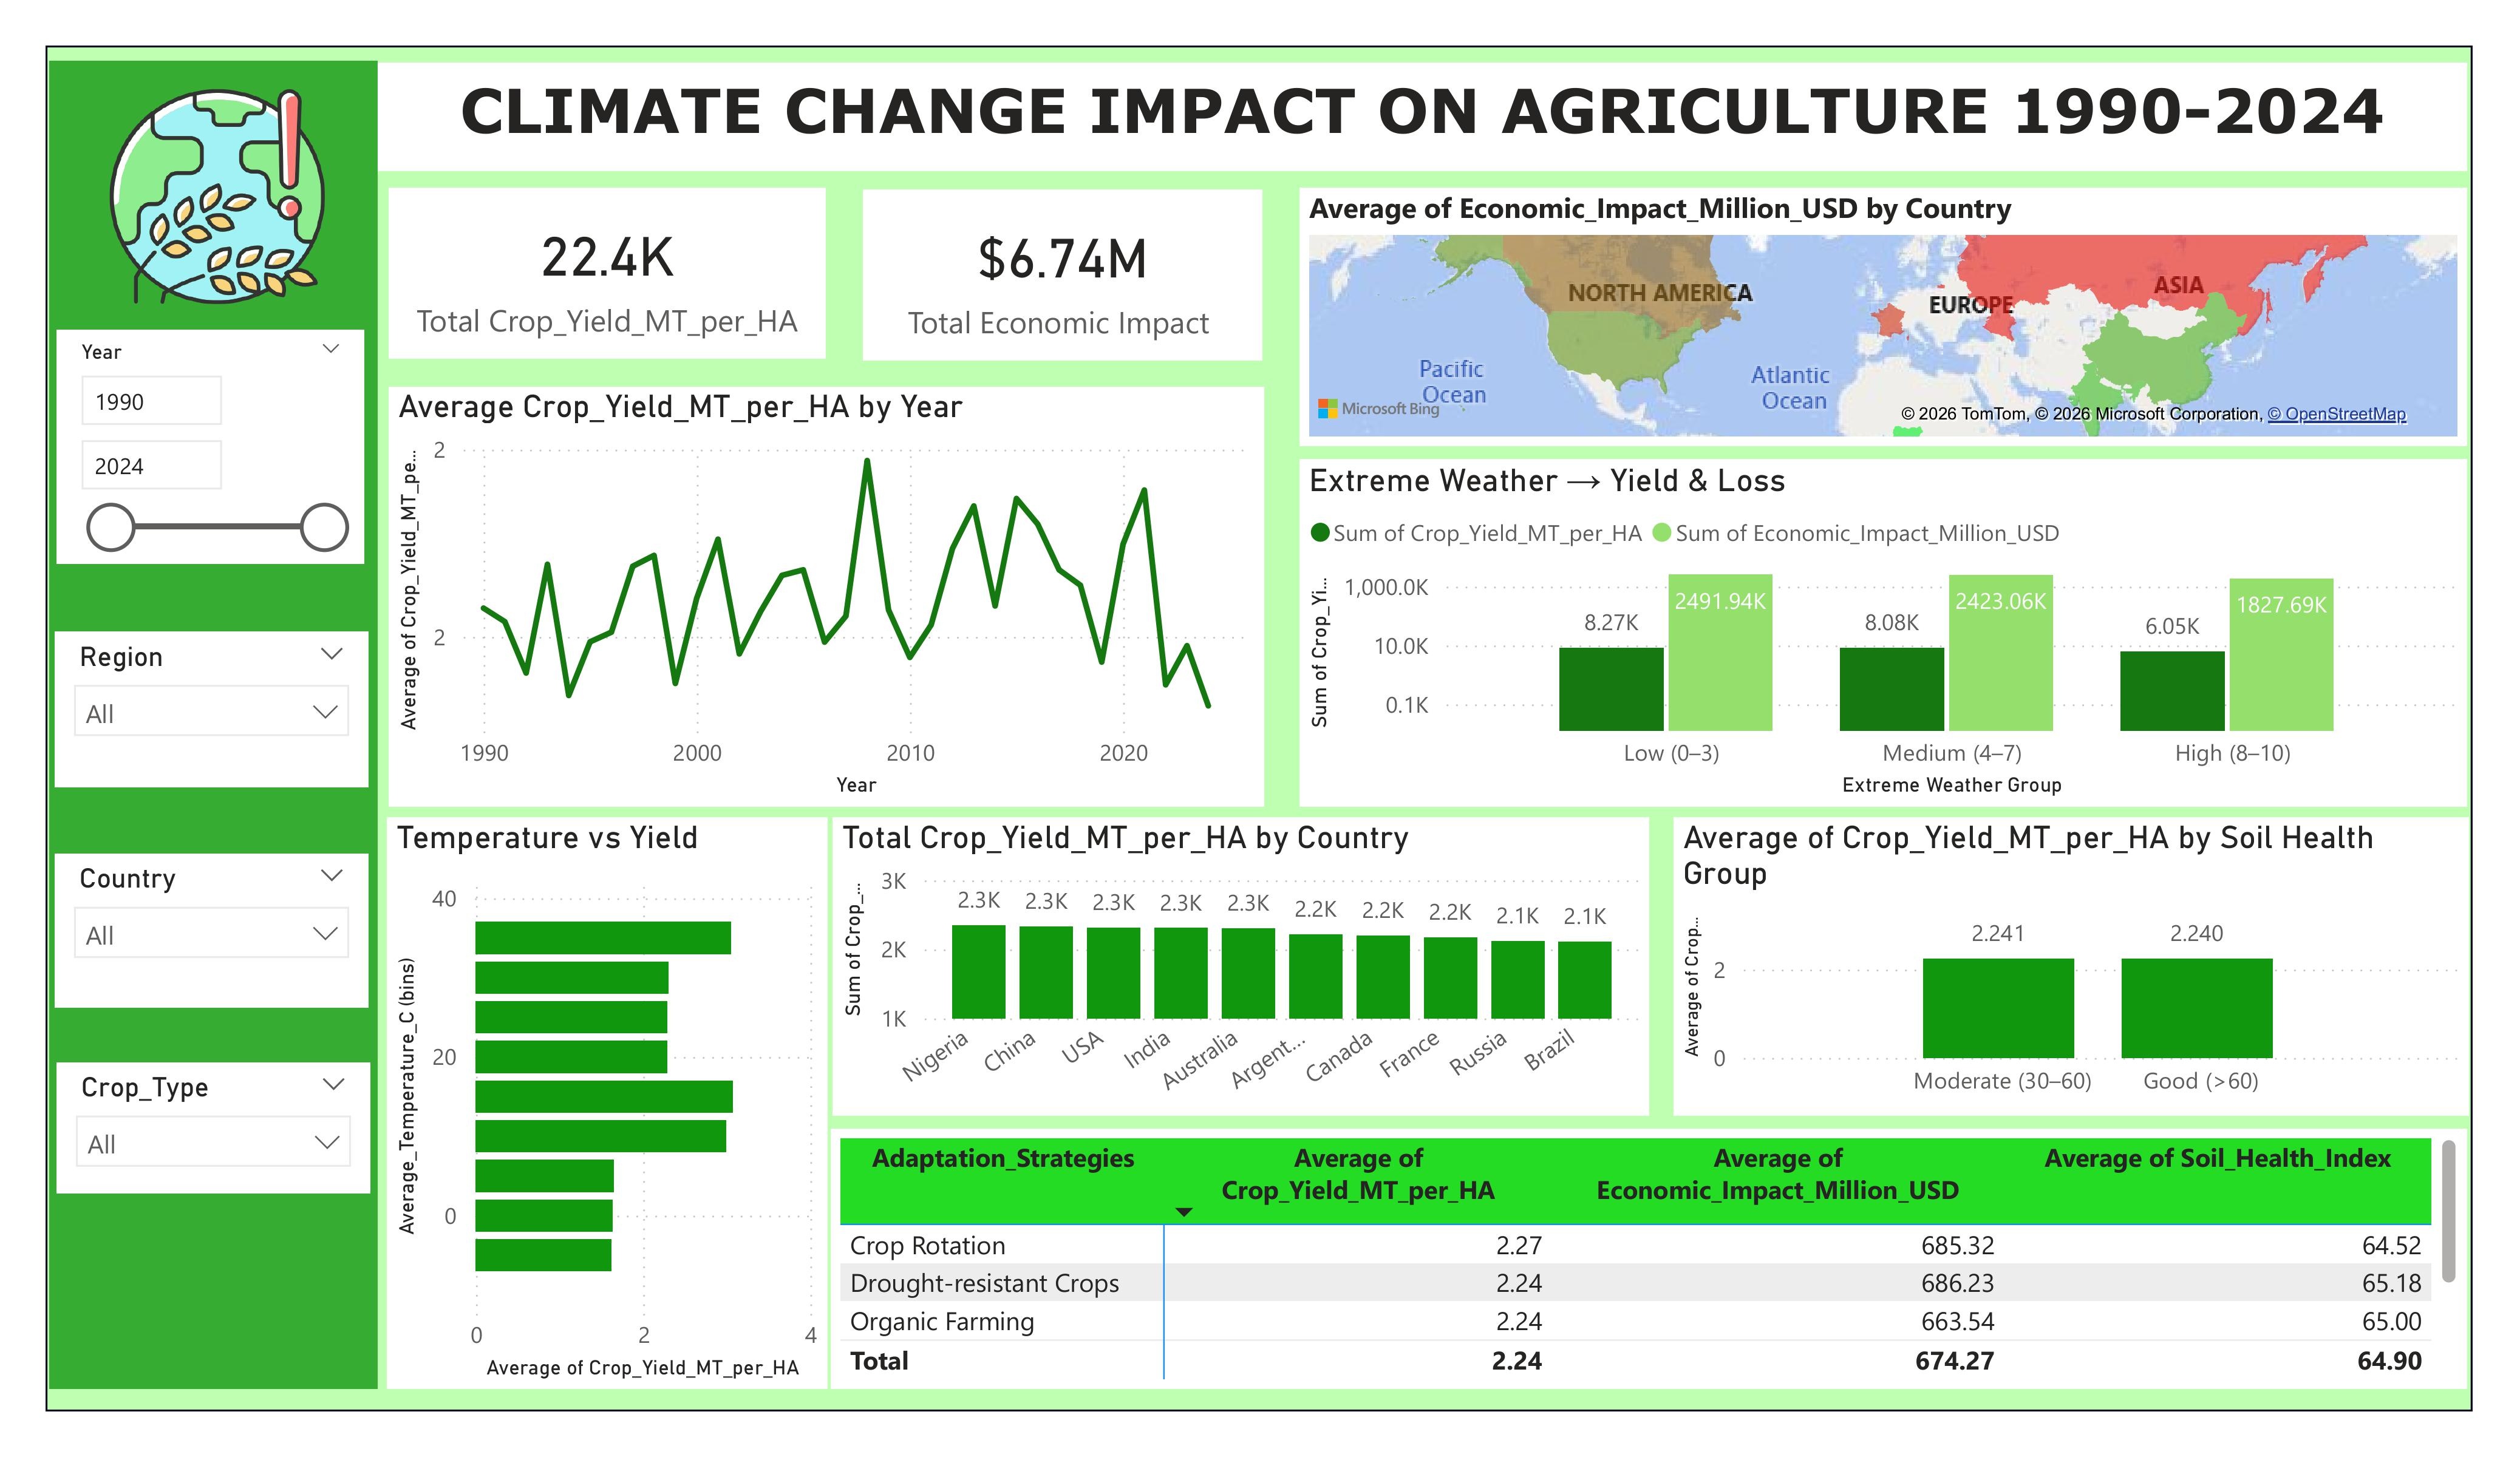

The dashboard page shown, as its layout file describes it:
{"tool":"powerbi","page":{"name":"Overview","canvas":[1280,720],"ordinal":0},"visuals":[{"type":"shape","box":[0,0,1278.8,720.2],"z":0},{"type":"textbox","box":[175,8.8,1101.2,57.5],"z":1000},{"type":"shape","box":[2.4,8.4,172.5,699.7],"z":2000},{"type":"lineChart","title":"Average Crop_Yield_MT_per_HA by Year","fields":{"Y":["Avg(climate_change_impact_on_agriculture_2024.Crop_Yield_MT_per_HA)"],"Category":["climate_change_impact_on_agriculture_2024.Year"]},"box":[181,179.8,460.9,220.8],"z":3000},{"type":"slicer","fields":{"Values":["climate_change_impact_on_agriculture_2024.Crop_Type"]},"box":[5.9,536.5,164.6,68.7],"z":4000},{"type":"slicer","fields":{"Values":["climate_change_impact_on_agriculture_2024.Year"]},"box":[6.3,150,161.3,122.5],"z":5000},{"type":"filledMap","fields":{"Category":["climate_change_impact_on_agriculture_2024.Country"]},"box":[661.1,74.8,615.3,136.3],"z":6000},{"type":"pivotTable","fields":{"Rows":["climate_change_impact_on_agriculture_2024.Adaptation_Strategies"],"Values":["Avg(climate_change_impact_on_agriculture_2024.Crop_Yield_MT_per_HA)","Avg(climate_change_impact_on_agriculture_2024.Economic_Impact_Million_USD)","Avg(climate_change_impact_on_agriculture_2024.Soil_Health_Index)"]},"box":[414,570.9,861.6,137.2],"z":7000},{"type":"image","box":[0,9.3,181.4,140.7],"z":8000},{"type":"slicer","fields":{"Values":["climate_change_impact_on_agriculture_2024.Region"]},"box":[5,308.8,165,82.5],"z":9000},{"type":"clusteredColumnChart","title":"Total Crop_Yield_MT_per_HA by Country","fields":{"Category":["climate_change_impact_on_agriculture_2024.Country"],"Y":["Sum(climate_change_impact_on_agriculture_2024.Crop_Yield_MT_per_HA)"]},"box":[415.1,407,430.2,157],"z":10000},{"type":"card","fields":{"Values":["Sum(climate_change_impact_on_agriculture_2024.Crop_Yield_MT_per_HA)"]},"box":[181.3,75,230,90],"z":11000},{"type":"card","fields":{"Values":["Sum(climate_change_impact_on_agriculture_2024.Economic_Impact_Million_USD)"]},"box":[431.3,76.3,210,90],"z":12000},{"type":"clusteredColumnChart","title":"Extreme Weather → Yield & Loss","fields":{"Category":["climate_change_impact_on_agriculture_2024.Extreme Weather Group"],"Y":["Sum(climate_change_impact_on_agriculture_2024.Crop_Yield_MT_per_HA)","Sum(climate_change_impact_on_agriculture_2024.Economic_Impact_Million_USD)"]},"box":[661.1,218.4,615.3,182.2],"z":13000},{"type":"clusteredBarChart","title":"Temperature vs Yield","fields":{"Category":["climate_change_impact_on_agriculture_2024.Average_Temperature_C (bins)"],"Y":["Avg(climate_change_impact_on_agriculture_2024.Crop_Yield_MT_per_HA)"]},"box":[180.2,407,231.4,301.2],"z":14000},{"type":"clusteredColumnChart","fields":{"Category":["climate_change_impact_on_agriculture_2024.Soil Health Group"],"Y":["Avg(climate_change_impact_on_agriculture_2024.Crop_Yield_MT_per_HA)"]},"box":[858.1,407,418.6,157],"z":15000},{"type":"slicer","fields":{"Values":["climate_change_impact_on_agriculture_2024.Country"]},"box":[4.8,425.9,165.3,80.8],"z":16000}]}

Visuals, with their boxes in screenshot pixels (x1, y1, x2, y2):
shape: crop(46, 46, 2472, 1411)
textbox: crop(378, 62, 2467, 171)
shape: crop(50, 61, 378, 1389)
"Average Crop_Yield_MT_per_HA by Year" lineChart: crop(389, 387, 1264, 806)
slicer - climate_change_impact_on_agriculture_2024.Crop_Type: crop(56, 1064, 369, 1194)
slicer - climate_change_impact_on_agriculture_2024.Year: crop(58, 330, 364, 563)
filledMap - climate_change_impact_on_agriculture_2024.Country: crop(1300, 188, 2468, 446)
pivotTable - climate_change_impact_on_agriculture_2024.Adaptation_Strategies x Avg(climate_change_impact_on_agriculture_2024.Crop_Yield_MT_per_HA): crop(831, 1129, 2466, 1389)
image: crop(46, 63, 390, 330)
slicer - climate_change_impact_on_agriculture_2024.Region: crop(55, 631, 368, 788)
"Total Crop_Yield_MT_per_HA by Country" clusteredColumnChart: crop(833, 818, 1650, 1116)
card - Sum(climate_change_impact_on_agriculture_2024.Crop_Yield_MT_per_HA): crop(390, 188, 826, 359)
card - Sum(climate_change_impact_on_agriculture_2024.Economic_Impact_Million_USD): crop(864, 190, 1262, 361)
"Extreme Weather → Yield & Loss" clusteredColumnChart: crop(1300, 460, 2468, 806)
"Temperature vs Yield" clusteredBarChart: crop(387, 818, 826, 1389)
clusteredColumnChart - climate_change_impact_on_agriculture_2024.Soil Health Group x Avg(climate_change_impact_on_agriculture_2024.Crop_Yield_MT_per_HA): crop(1674, 818, 2468, 1116)
slicer - climate_change_impact_on_agriculture_2024.Country: crop(55, 854, 369, 1007)
